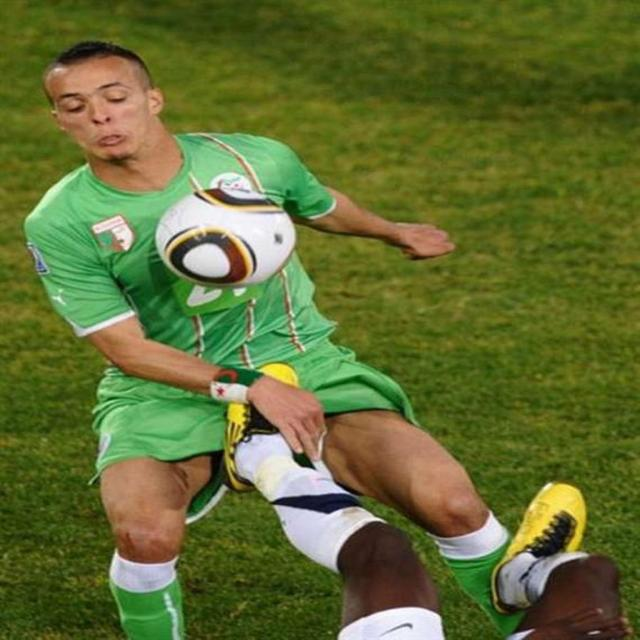Face: (43, 52, 177, 183)
